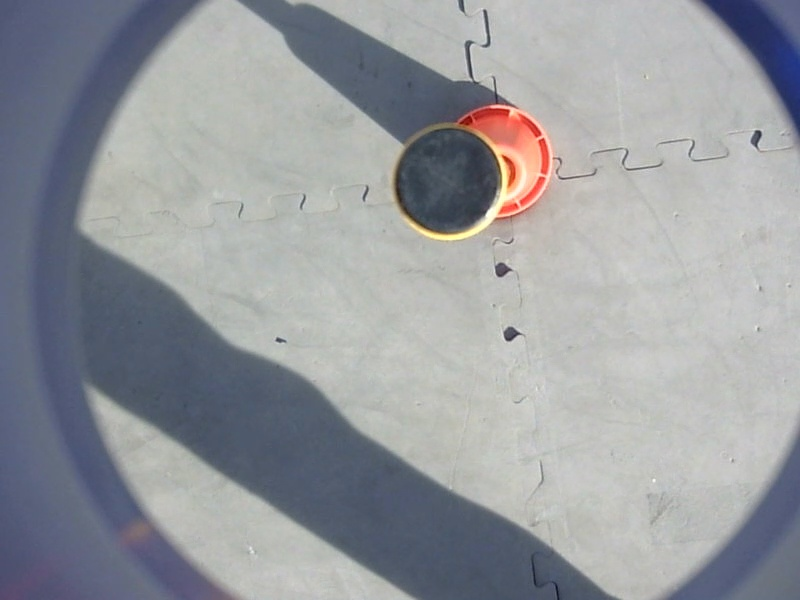tip: (384, 120, 509, 247)
